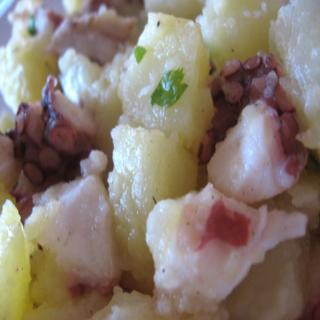Potato: (10, 40, 312, 320)
Salad: (0, 0, 320, 318)
